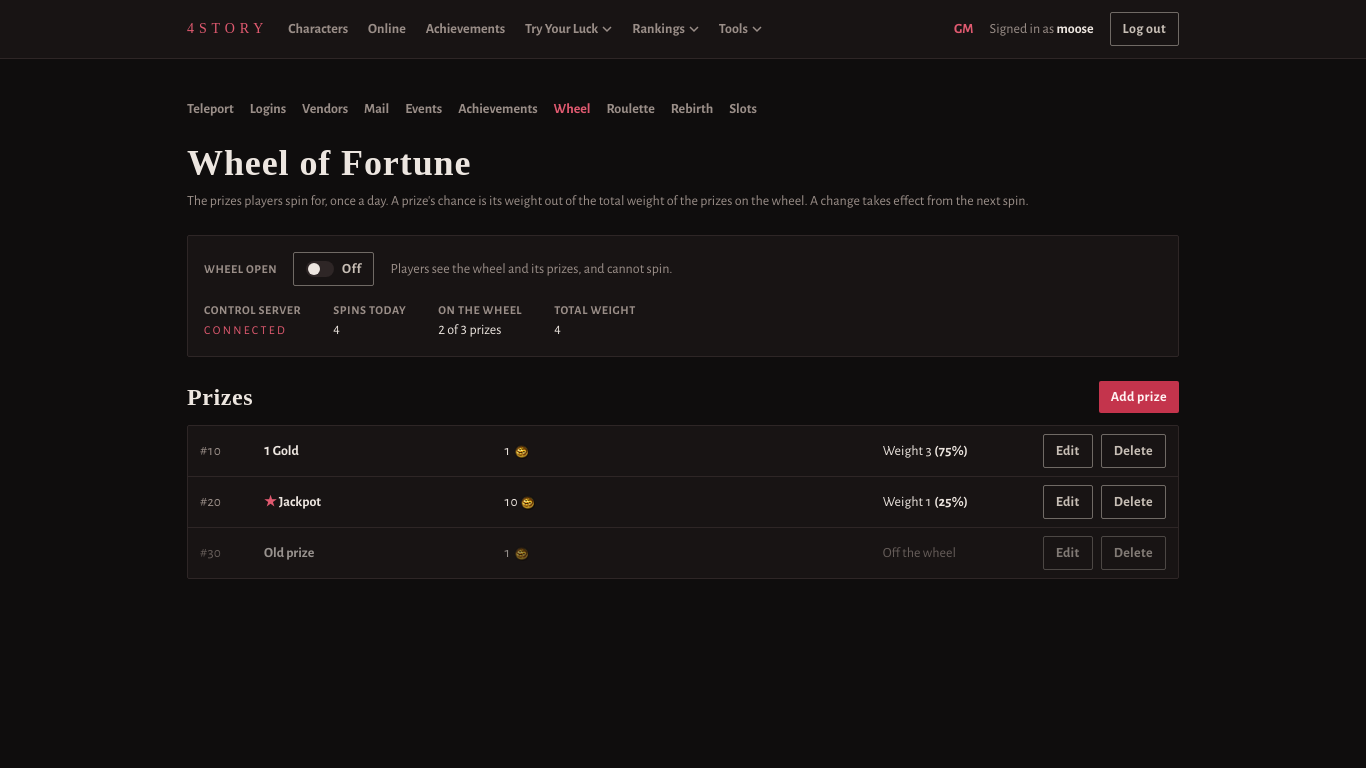
Test case: GM wheel page › prizes › adds a prize after the last one
Click the button "Add prize" at {"x": 1139, "y": 397}, box [1099,381,1179,413]
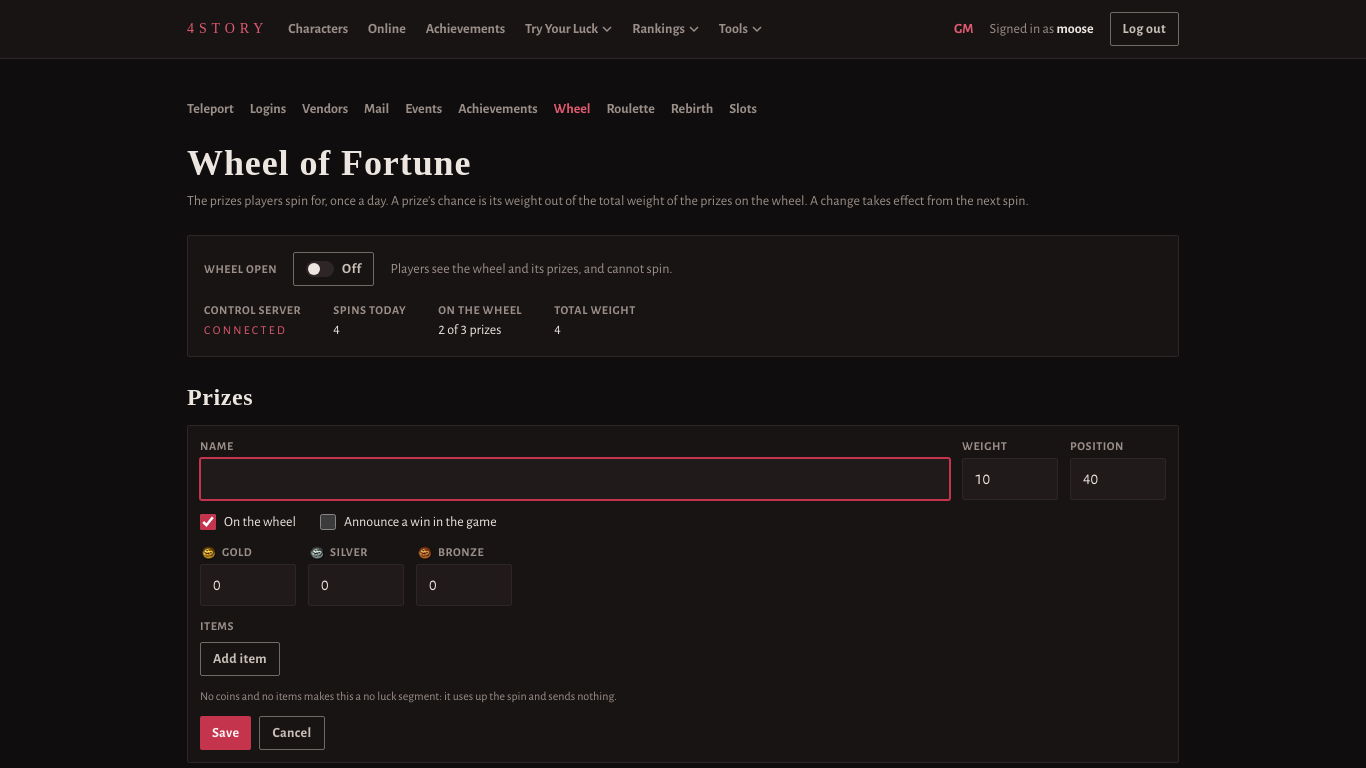
Result: the number field labelled "Position" holds "40" at [1070,458,1166,500]
Type "500 Silver" into the field labelled "Name" at {"x": 575, "y": 479}, box [200,458,950,500]
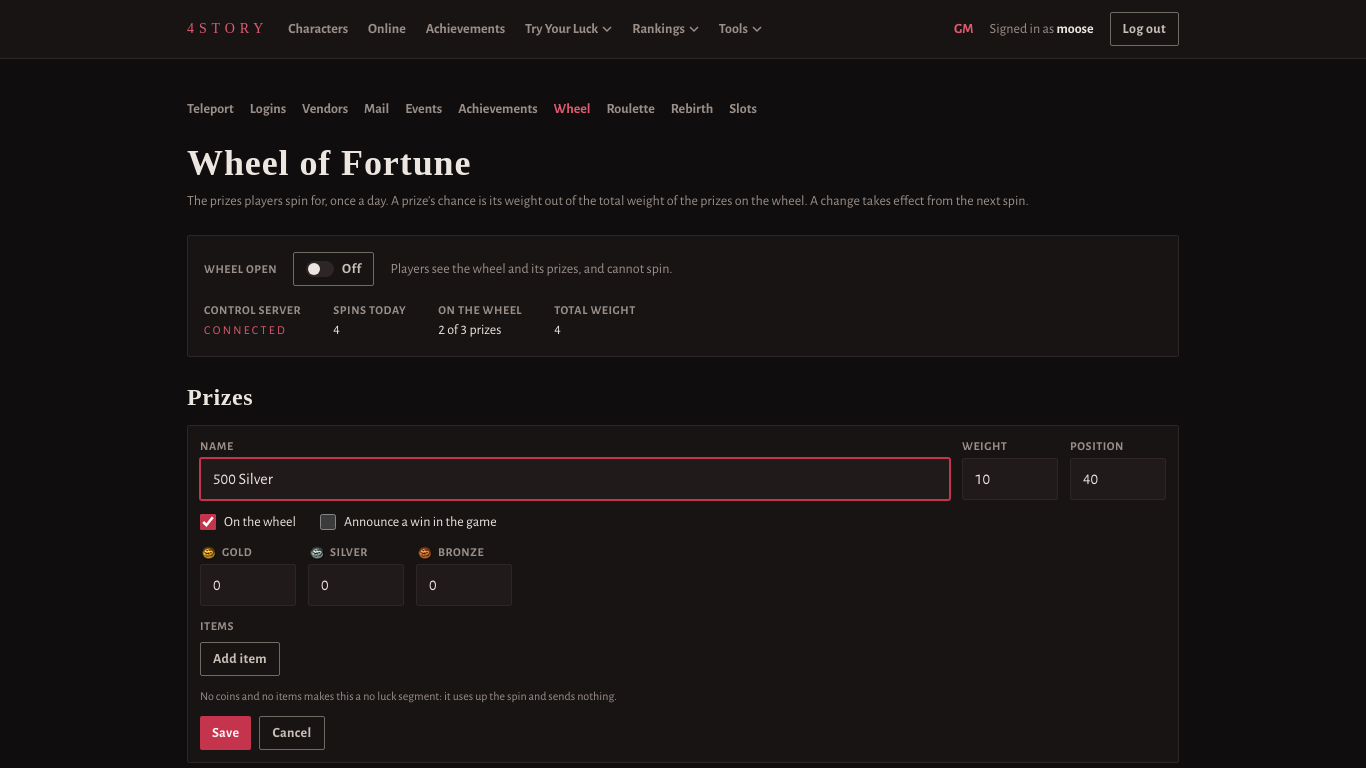
Replace the text in the number field labelled "Weight" with "12" at {"x": 1010, "y": 479}, box [962,458,1058,500]
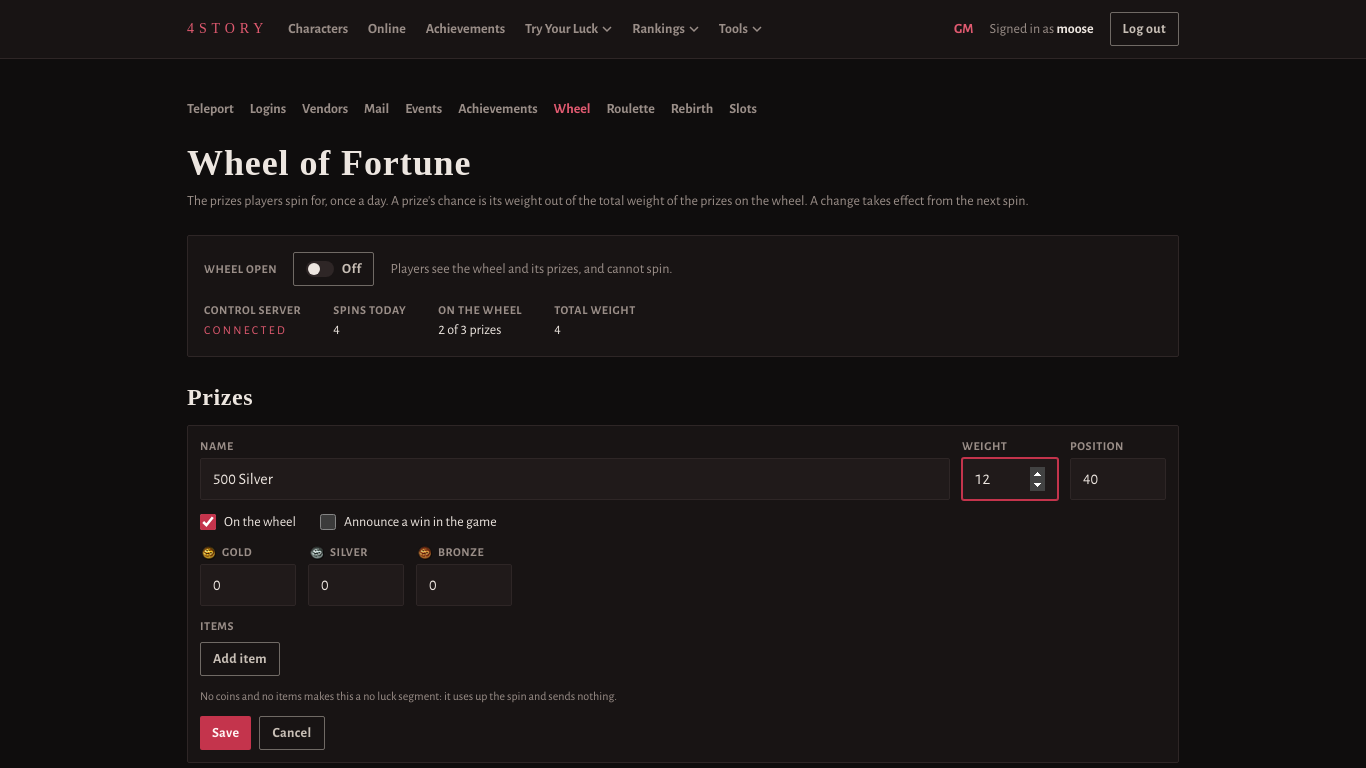
Replace the text in the number field labelled "Silver" with "500" at {"x": 356, "y": 585}, box [308,564,404,606]
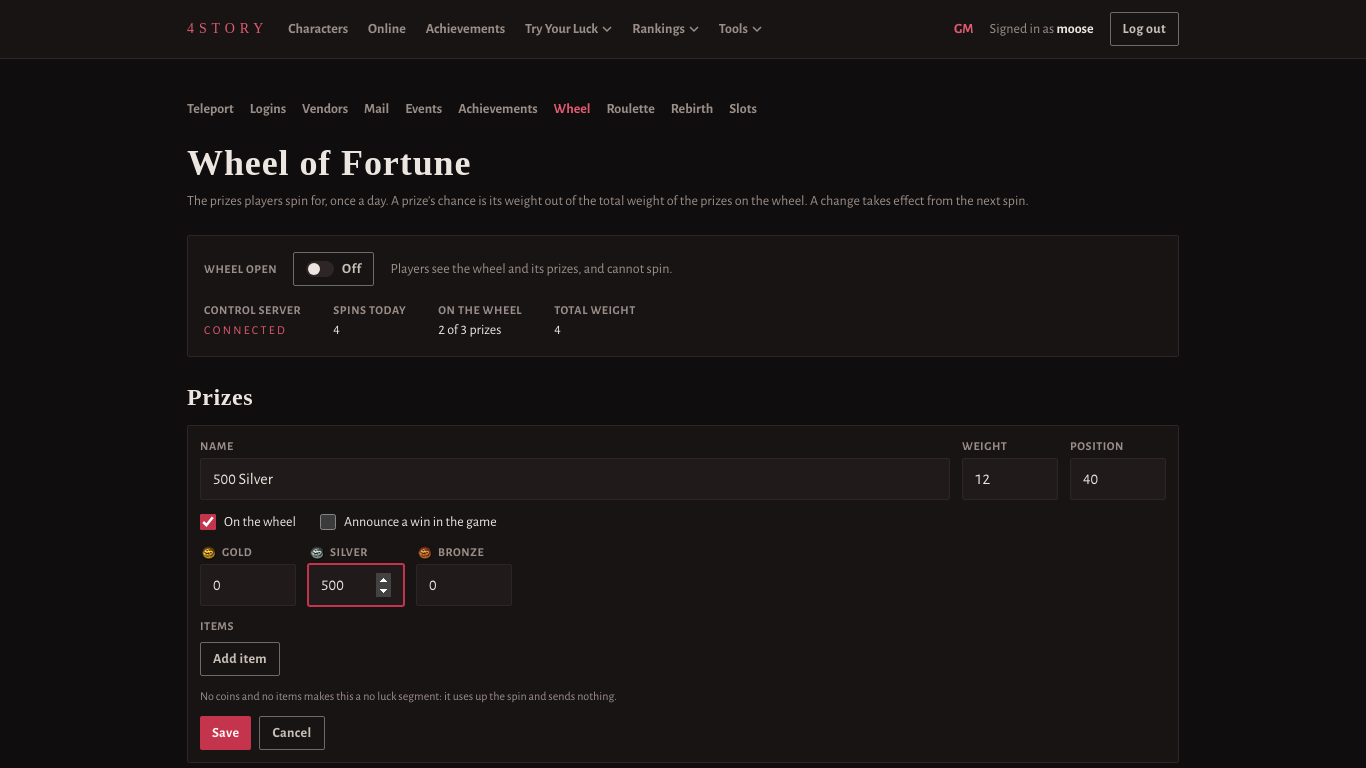
Click the button "Save" at {"x": 226, "y": 733}, box [200,716,252,750]
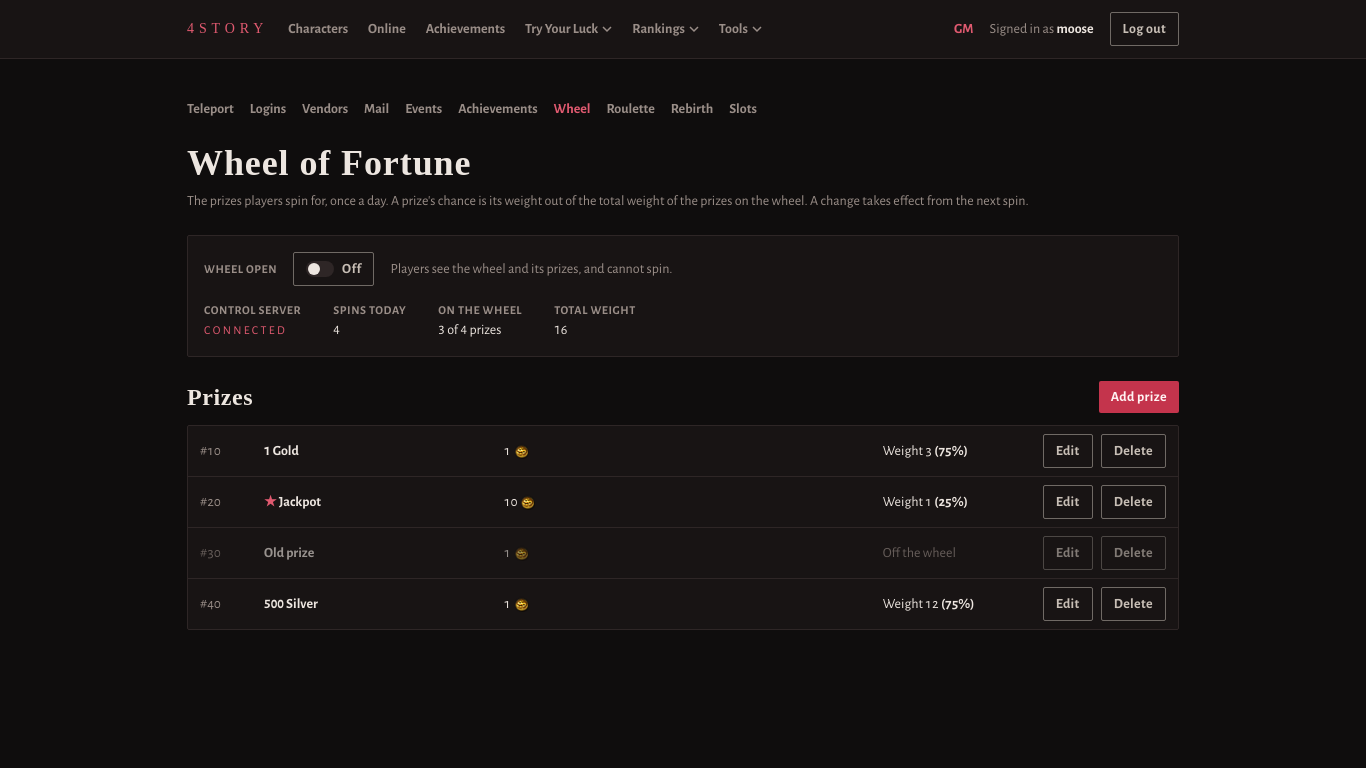
Result: the number of list items is 4 at [188,426,1178,477]; [188,477,1178,528]; [188,528,1178,579]; [188,579,1178,629]
